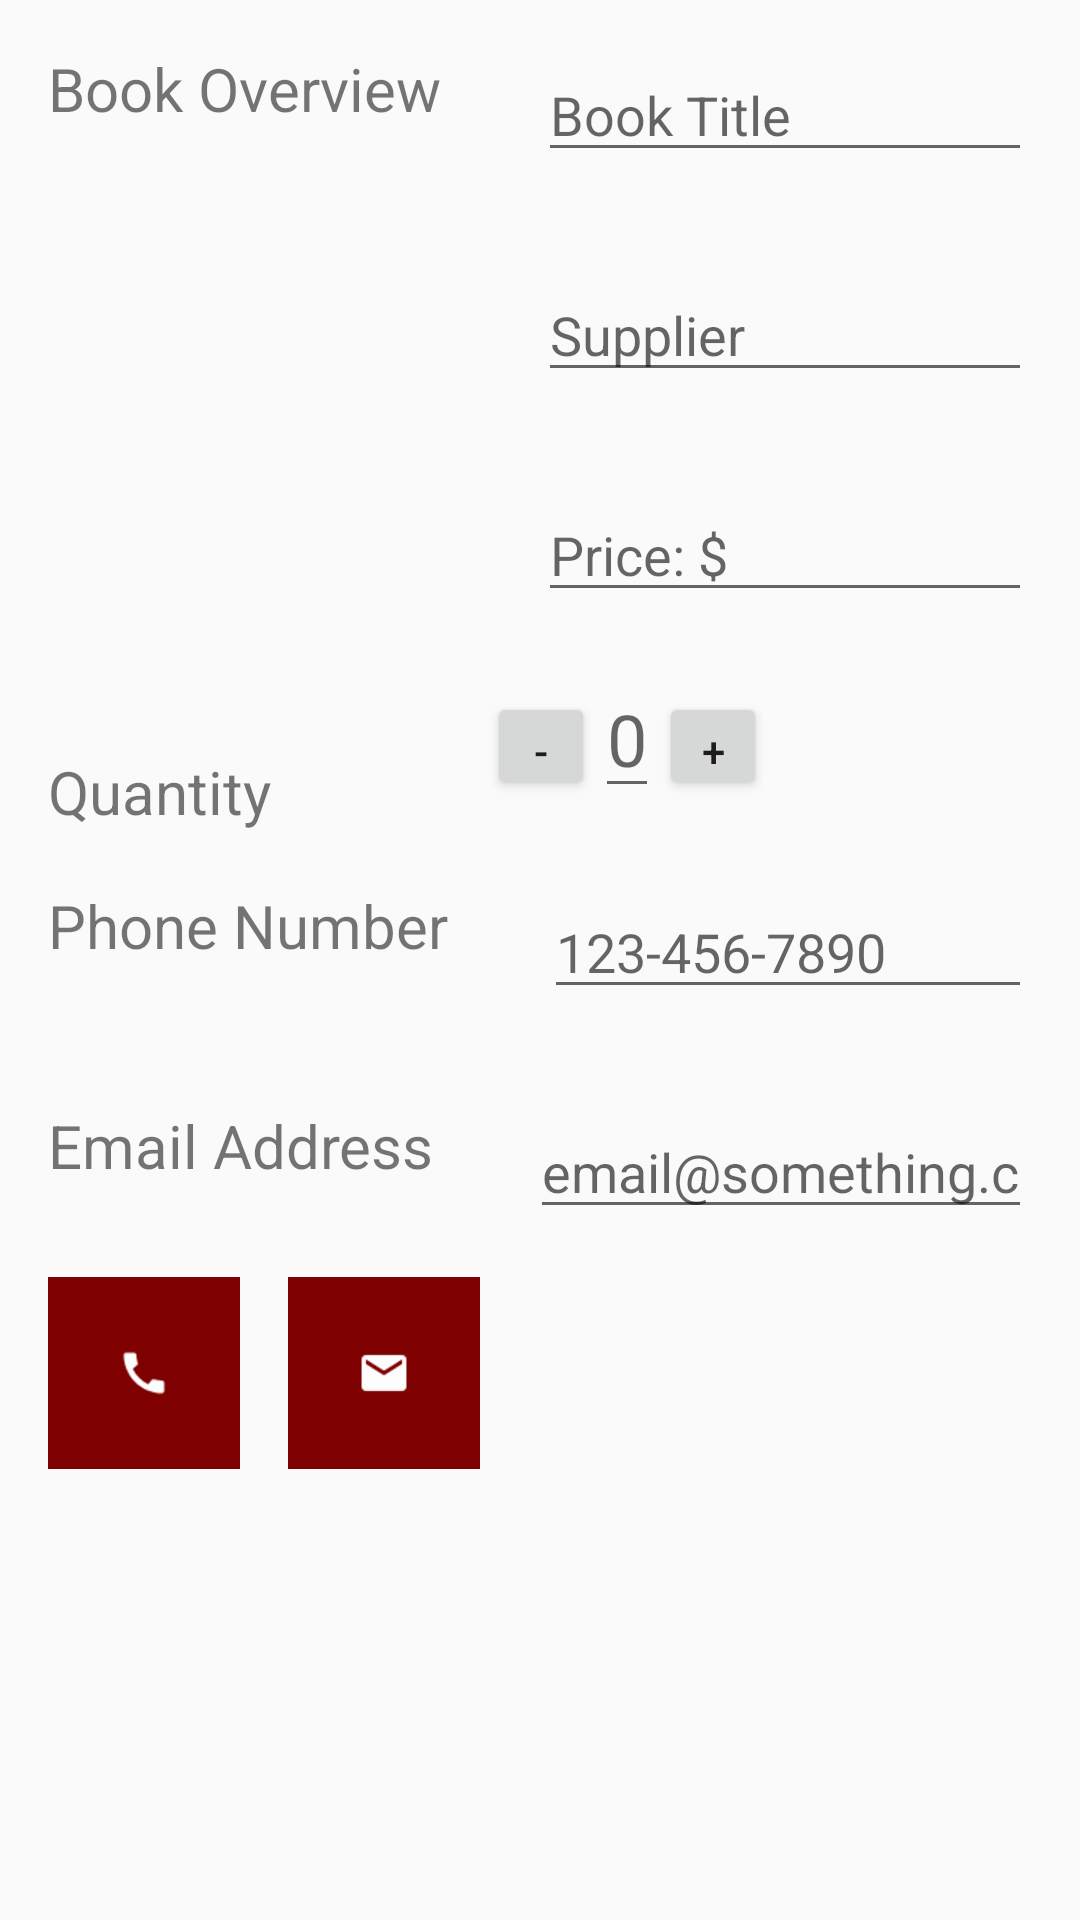

Icon click points for this 1080 × 1920 phone screenshot, format (x,y):
call: (144,1373)
